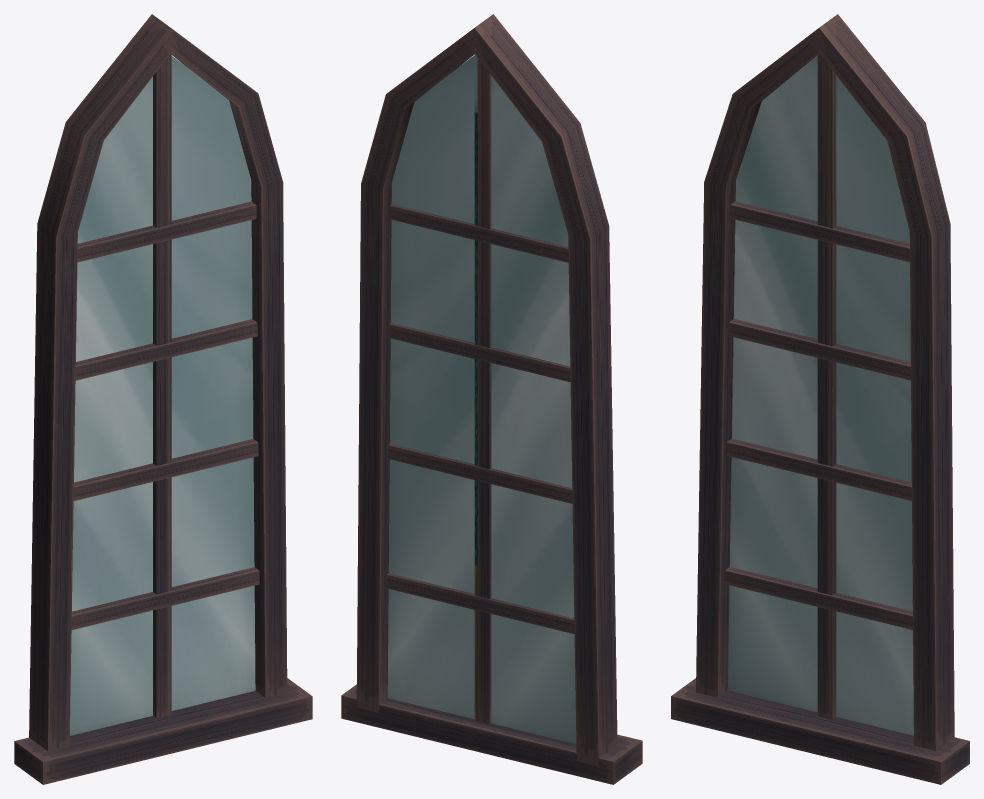
The model's file is Window_F.fbx.
The picture shows the model from 3 angles, left to right: view 1: azimuth 30°, elevation 25°; view 2: azimuth 150°, elevation 25°; view 3: azimuth 330°, elevation 25°; orthographic projection.
Parts seen in each view (by area): view 1: Window_F; view 2: Window_F; view 3: Window_F.
Part boxes in pixels (x1,y1,x2,y2): Window_F: (14,14,312,784); Window_F: (341,14,642,784); Window_F: (671,14,969,784).
Bounding box in the file's own units: 0.1554 × 0.3947 × 0.0288.
